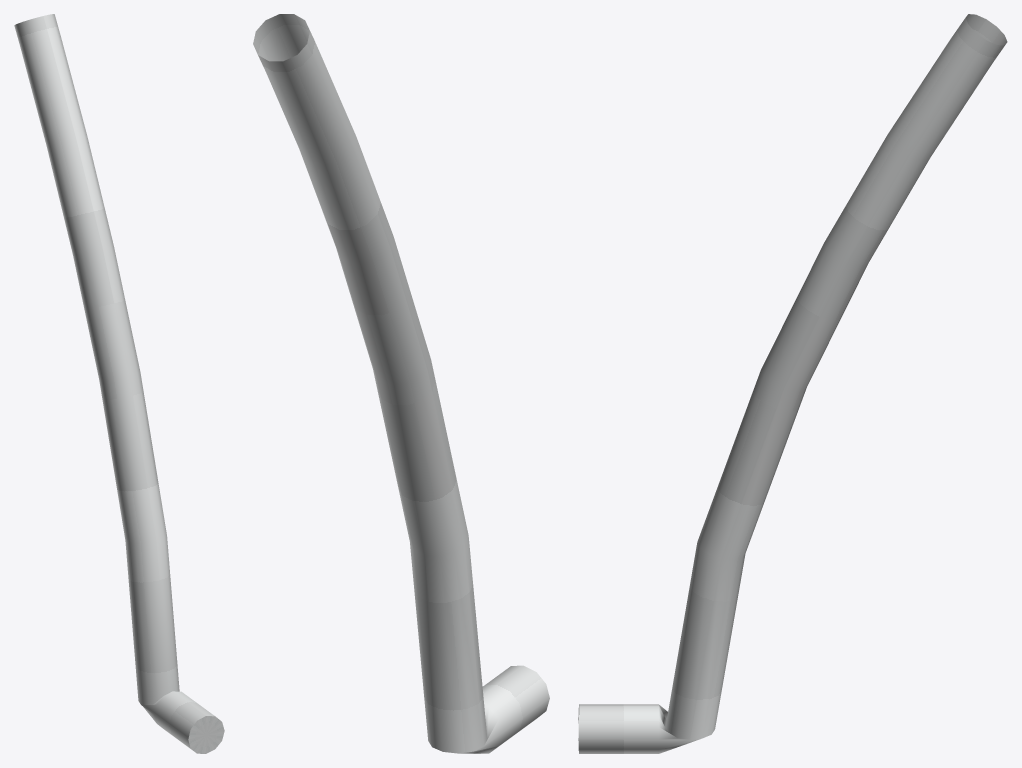
Rendered from luminairearm_laupsweep10ft_c1.obj.
3 renders of one model, left to right at view 1: azimuth 30°, elevation 25°; view 2: azimuth 150°, elevation 25°; view 3: azimuth 270°, elevation 25°, orthographic. The views are drawn at different scales.
Visible parts, largest first — view 1: luminairearm_laupsweep10ft_c1; view 2: luminairearm_laupsweep10ft_c1; view 3: luminairearm_laupsweep10ft_c1.
Boxes of the visible parts, x1=… form: luminairearm_laupsweep10ft_c1: x1=14, y1=14, x2=224, y2=753; luminairearm_laupsweep10ft_c1: x1=253, y1=14, x2=549, y2=753; luminairearm_laupsweep10ft_c1: x1=578, y1=14, x2=1007, y2=753.
Bounding box in the file's own units: 0.0562 × 0.9142 × 0.4843.
